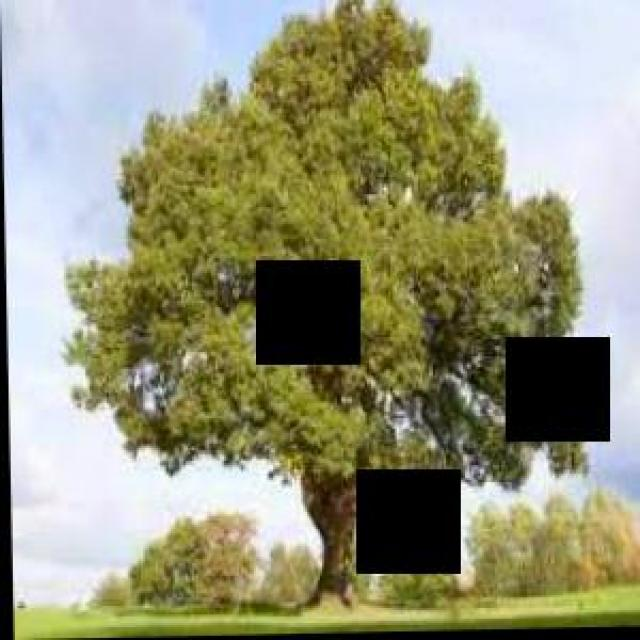tree: (52, 1, 594, 607)
